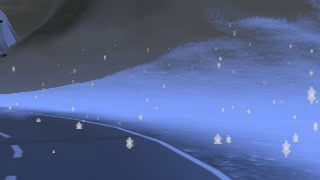Lane: (0, 110, 232, 179)
